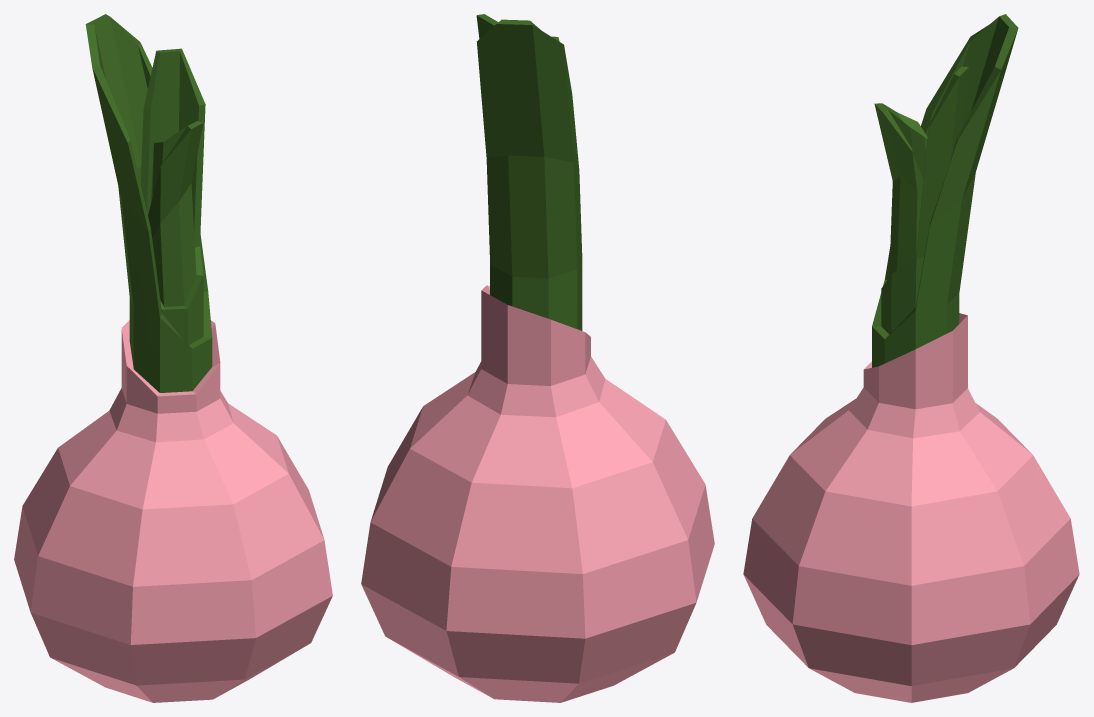
The model's file is Onion_3.fbx.
3 views of the same model, side by side, from view 1: azimuth 30°, elevation 25°; view 2: azimuth 150°, elevation 25°; view 3: azimuth 270°, elevation 25° (orthographic). The views are drawn at different scales.
Parts seen in each view (by area): view 1: Onion_3; view 2: Onion_3; view 3: Onion_3.
Part boxes in pixels (x1,y1,x2,y2): Onion_3: (14,14,332,702); Onion_3: (361,14,714,702); Onion_3: (743,14,1079,702).
Size of the model in its own units: 56.99 by 119 by 56.99.
